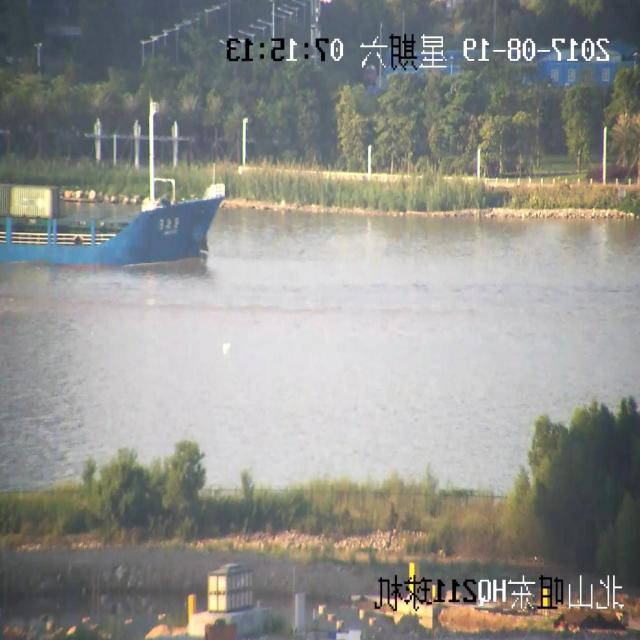cargoship: (0, 134, 236, 269)
